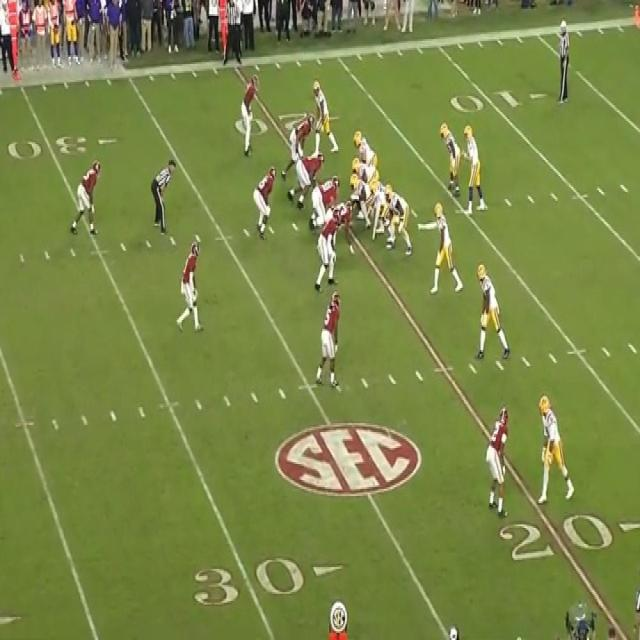center: (350, 176, 370, 226)
db: (484, 407, 513, 516), (80, 158, 100, 233), (242, 75, 259, 156), (321, 294, 336, 384), (182, 244, 197, 327)
lb: (253, 166, 278, 238), (284, 118, 313, 158), (322, 210, 336, 288)
qb: (462, 124, 485, 210)
skill: (478, 263, 511, 363), (431, 201, 458, 283), (309, 81, 340, 148), (440, 115, 457, 188)
